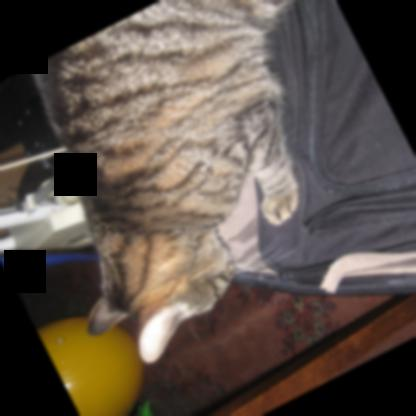backpack: (215, 0, 416, 294)
suitcase: (215, 0, 416, 293)
